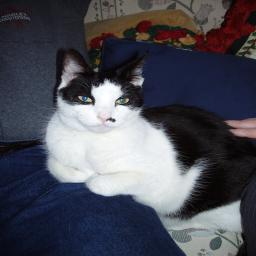catnose: (96, 113, 113, 123)
